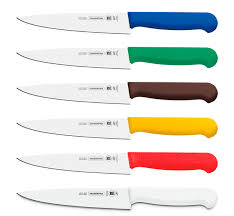kuchillu: (13, 5, 224, 37), (12, 42, 223, 74), (11, 78, 222, 110), (11, 112, 222, 144), (11, 146, 222, 178), (11, 180, 222, 212)
